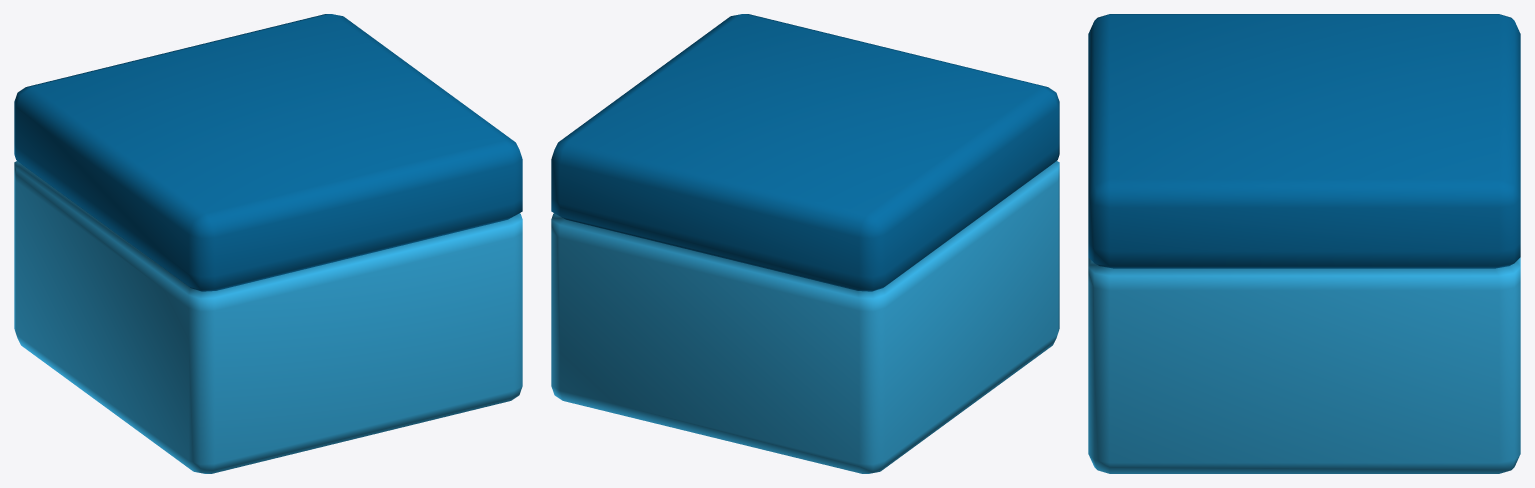
File: Counter_F_01_C02.fbx
3 views of the same model, side by side, from view 1: azimuth 30°, elevation 25°; view 2: azimuth 150°, elevation 25°; view 3: azimuth 270°, elevation 25° (orthographic). The views are drawn at different scales.
Visible parts, largest first — view 1: Counter_F_01_C02; view 2: Counter_F_01_C02; view 3: Counter_F_01_C02.
Boxes of the visible parts, bbox=[...] form: Counter_F_01_C02: bbox=[14, 14, 522, 473]; Counter_F_01_C02: bbox=[551, 14, 1059, 473]; Counter_F_01_C02: bbox=[1088, 14, 1520, 473].
Size of the model in its own units: 100 by 75 by 100.
